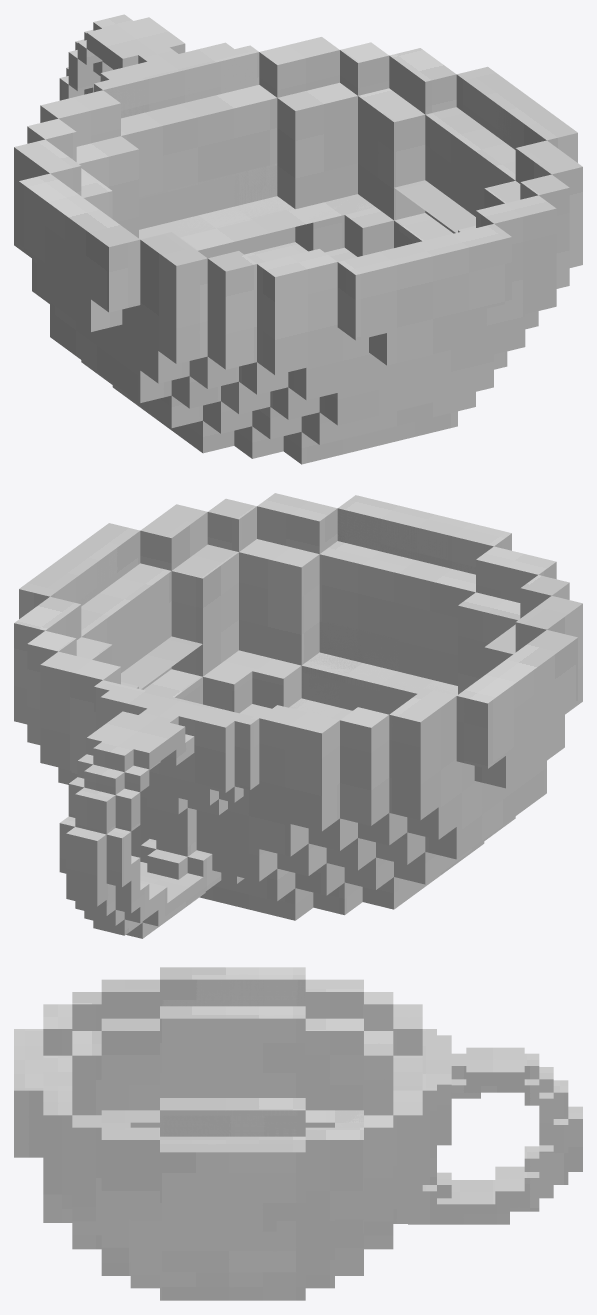
File: EspressoCup.fbx
3 views of the same model, one above another, from view 1: azimuth 30°, elevation 25°; view 2: azimuth 150°, elevation 25°; view 3: azimuth 270°, elevation 25° (orthographic). The views are drawn at different scales.
Parts seen in each view (by area): view 1: EspressoCup; view 2: EspressoCup; view 3: EspressoCup.
Boxes of the visible parts, x1,y1,x2,y2 form: EspressoCup: (14,14,582,464); EspressoCup: (14,493,582,938); EspressoCup: (14,967,582,1300).
Bounding box in the file's own units: 300 × 140 × 390.
1 material, 1 textured.
